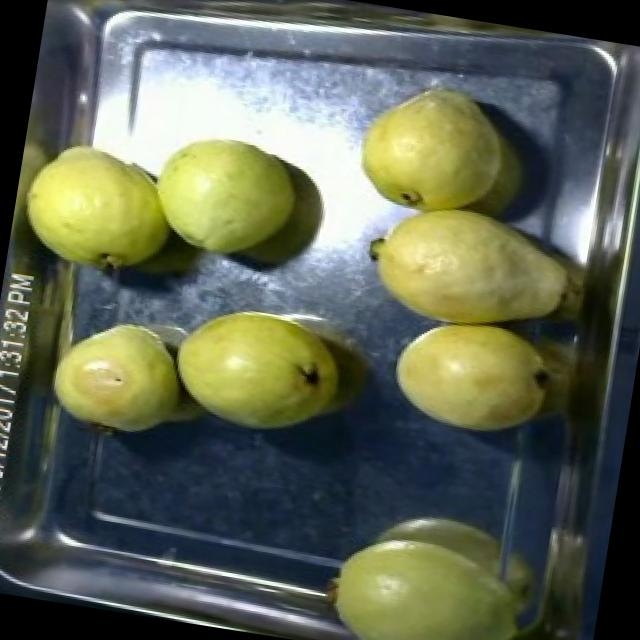Fruit: (339, 192, 585, 347), (155, 286, 361, 452), (309, 502, 549, 640), (337, 63, 540, 226), (6, 122, 201, 284), (133, 114, 318, 274), (377, 312, 561, 451), (37, 300, 199, 450)
